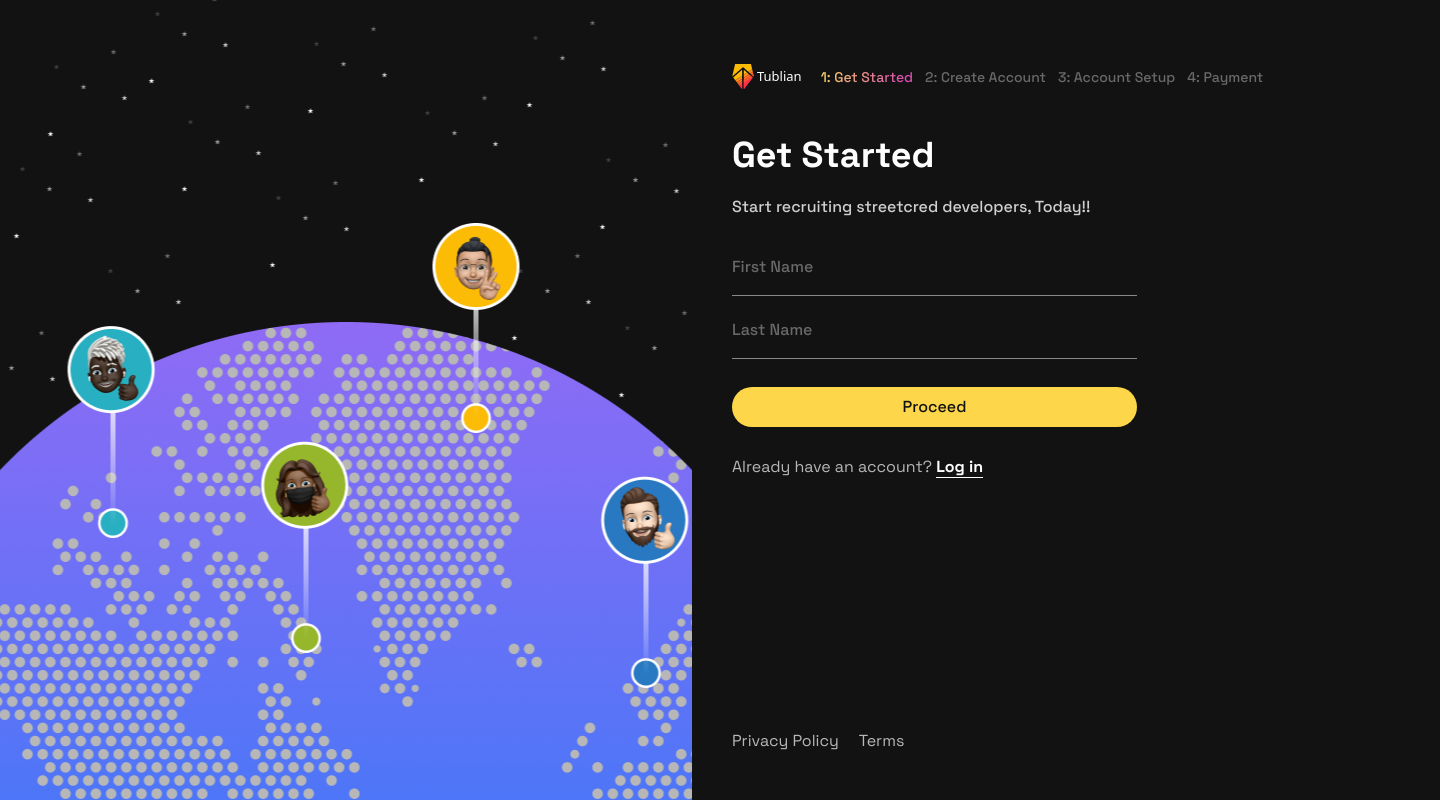
Multistep Form › handles error properly
The image size is (1440, 800).
Click the field with id "first-name".
click(935, 272)  # box [732,247,1137,296]
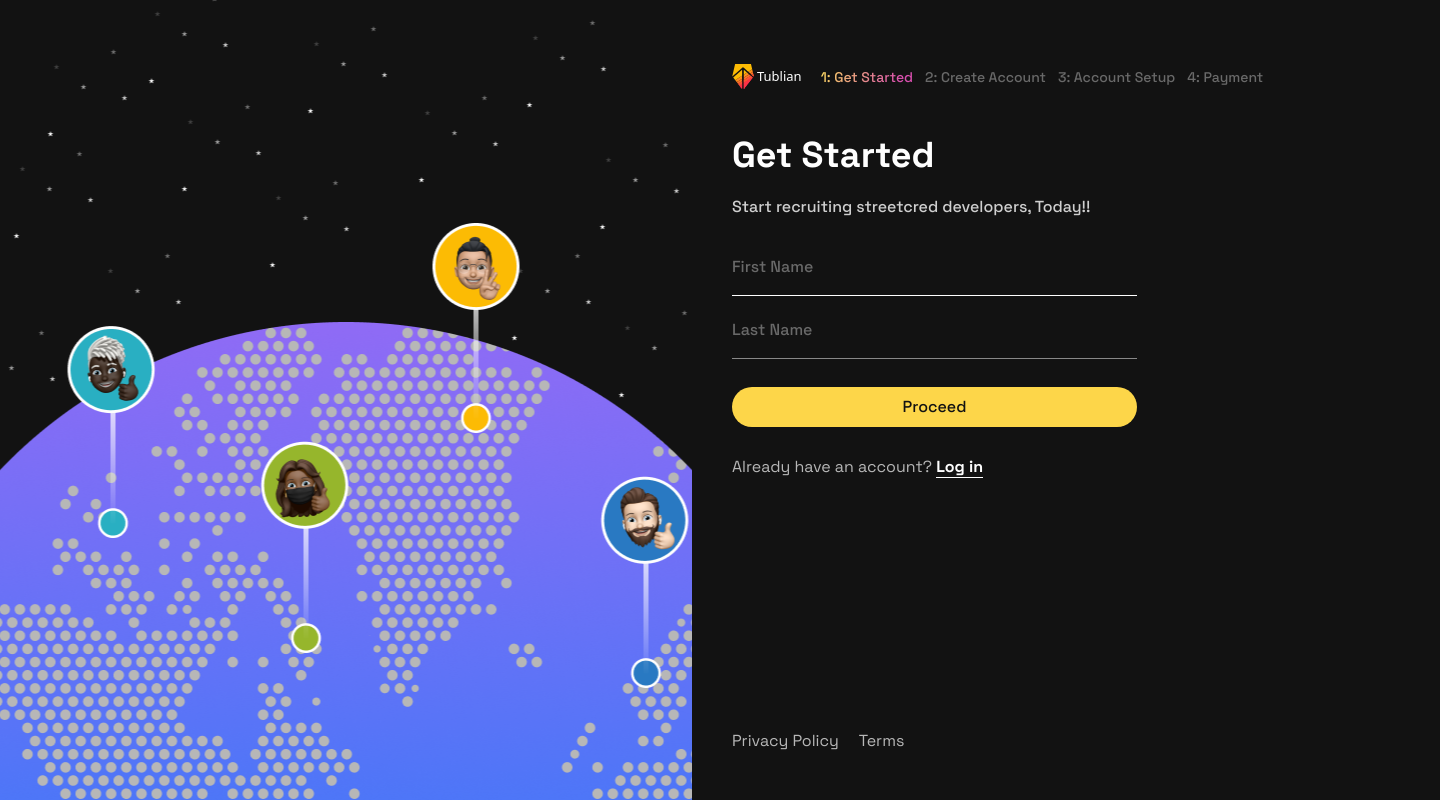
Click the field with id "last-name".
click(935, 335)  # box [732,310,1137,359]
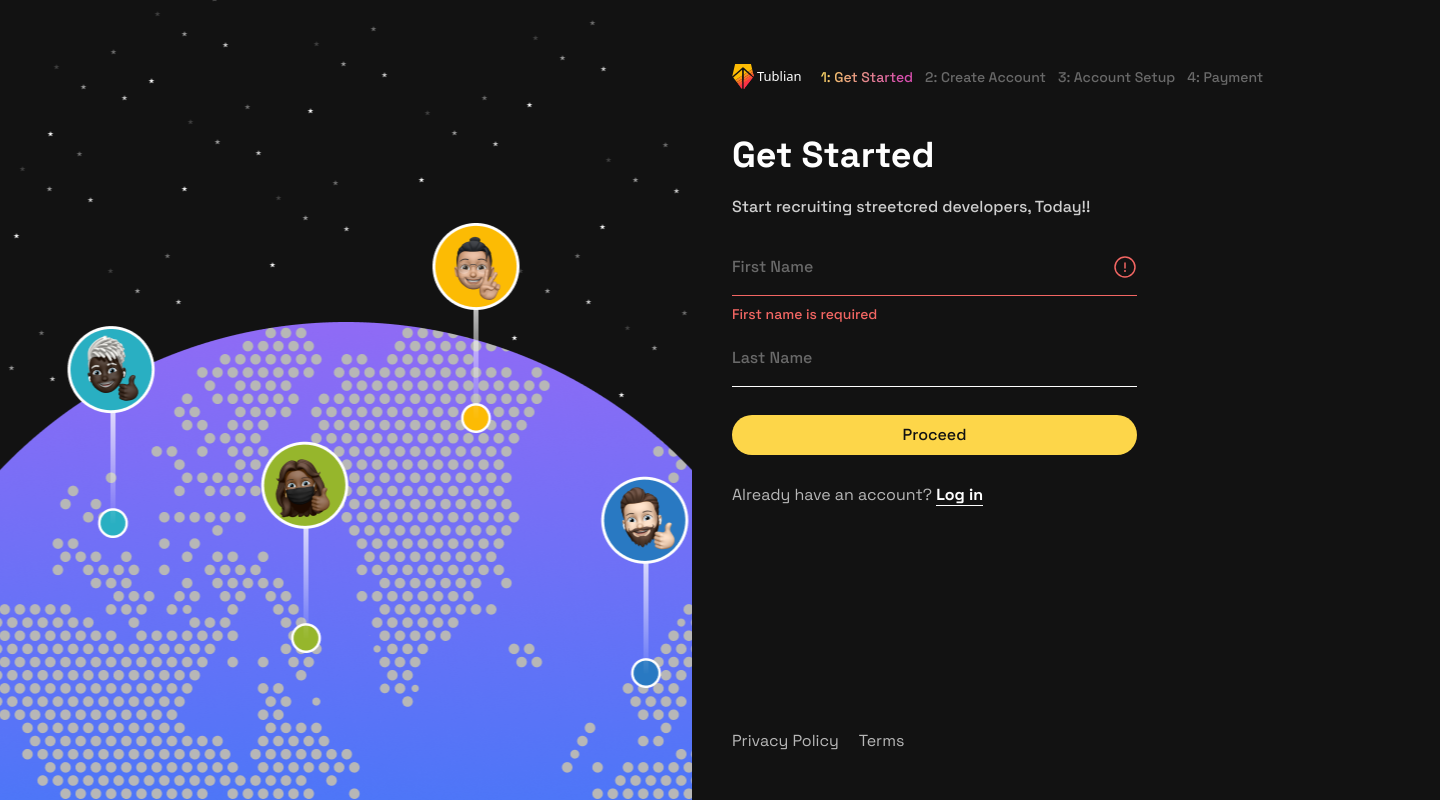
Check: the text "First name is required" is shown, box [732,305,877,323]
